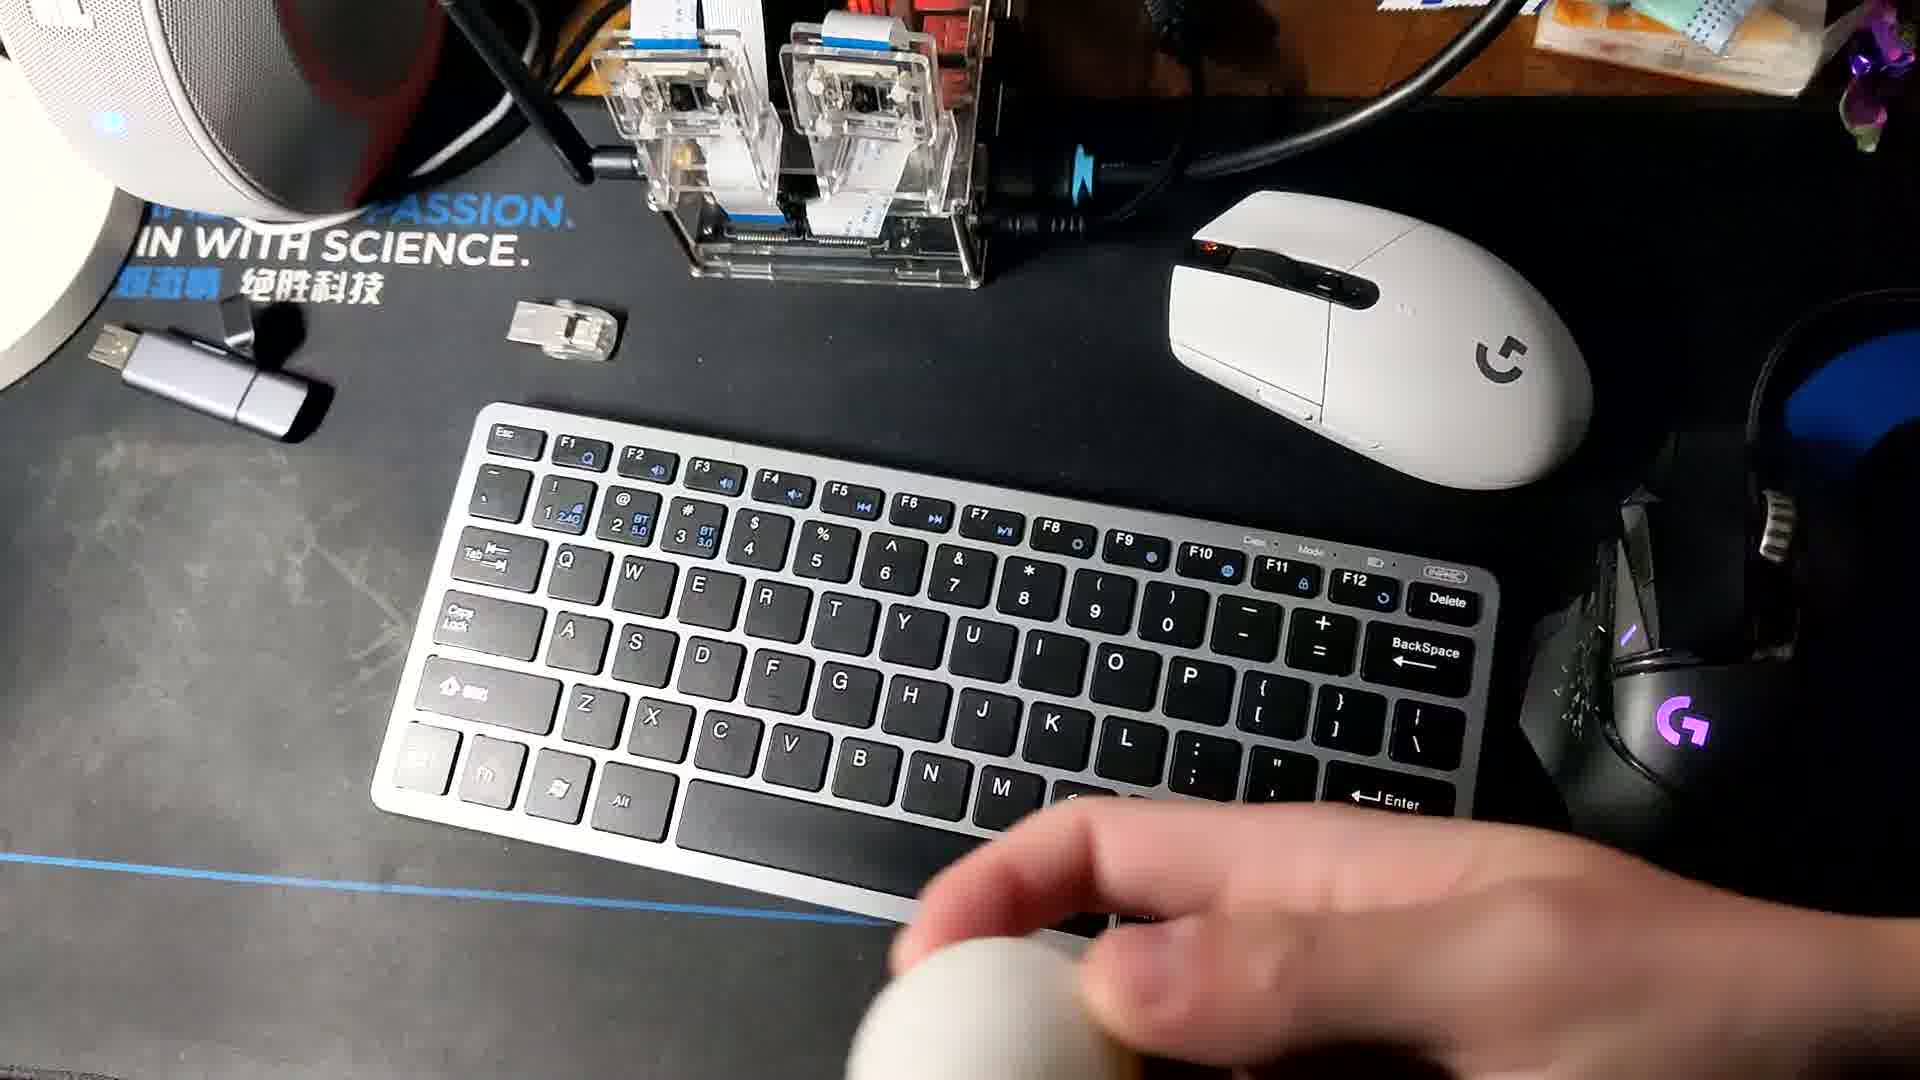Ball: (840, 938, 1153, 1080)
